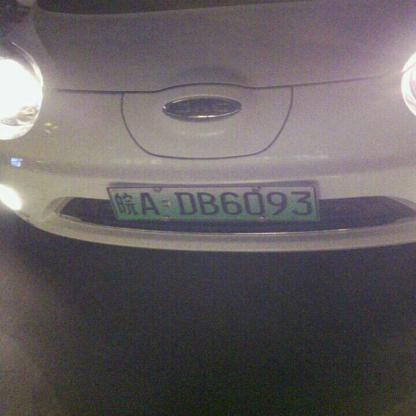lp: (107, 185, 318, 221)
